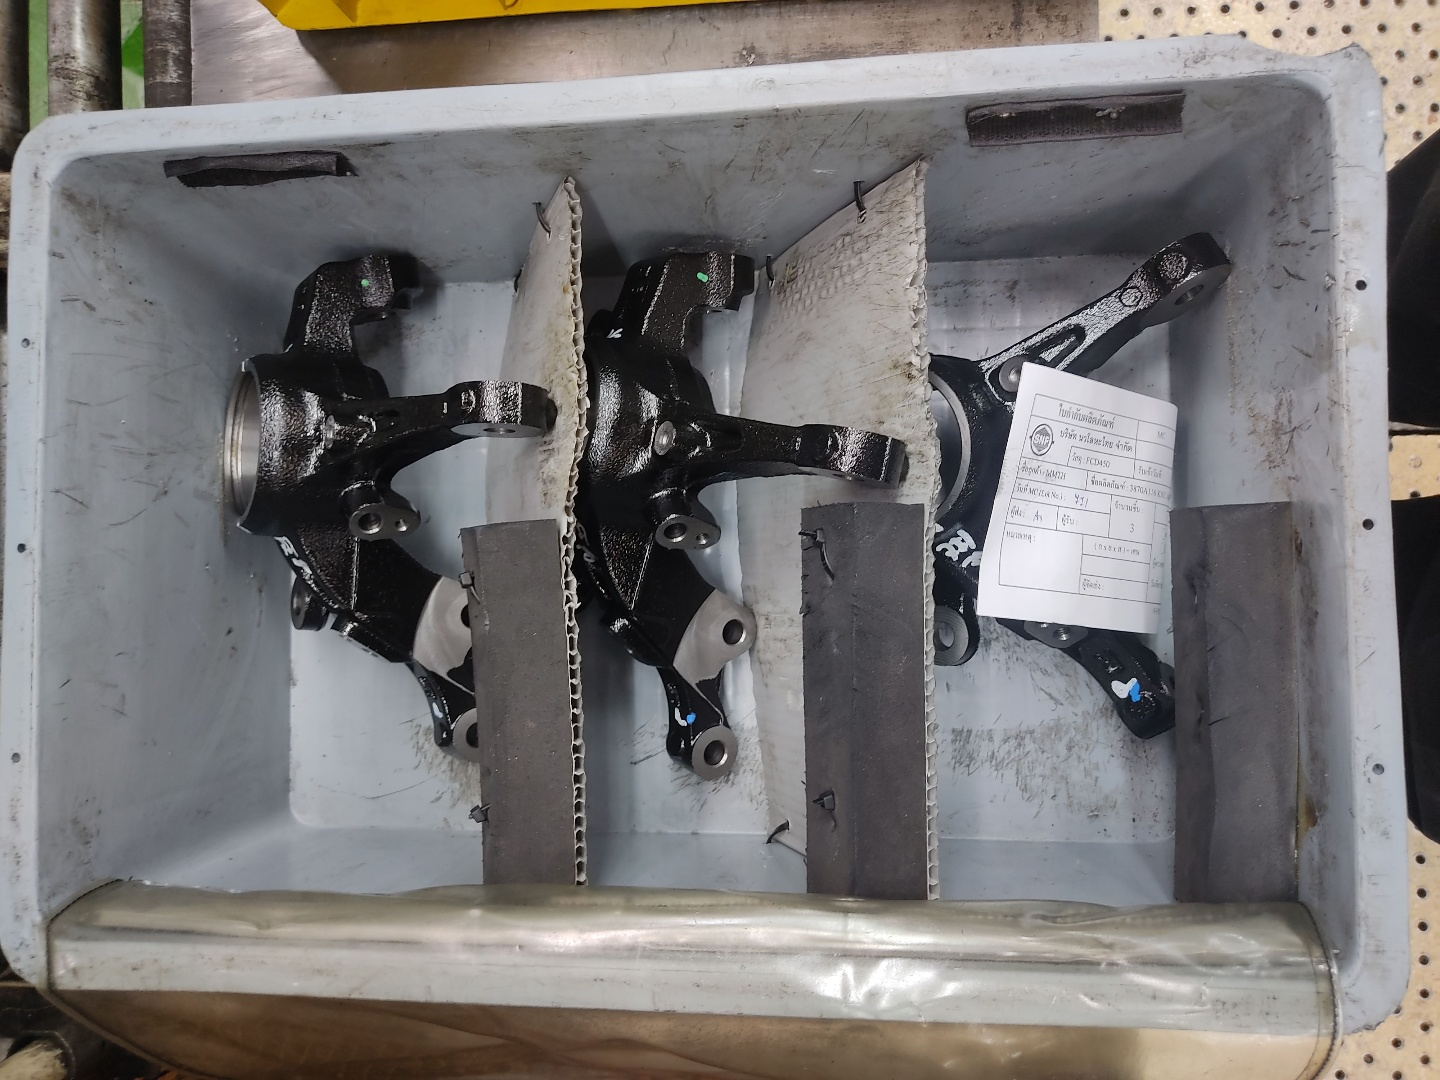abs-rh: (564, 235, 917, 791), (218, 241, 564, 775), (920, 223, 1244, 771)
